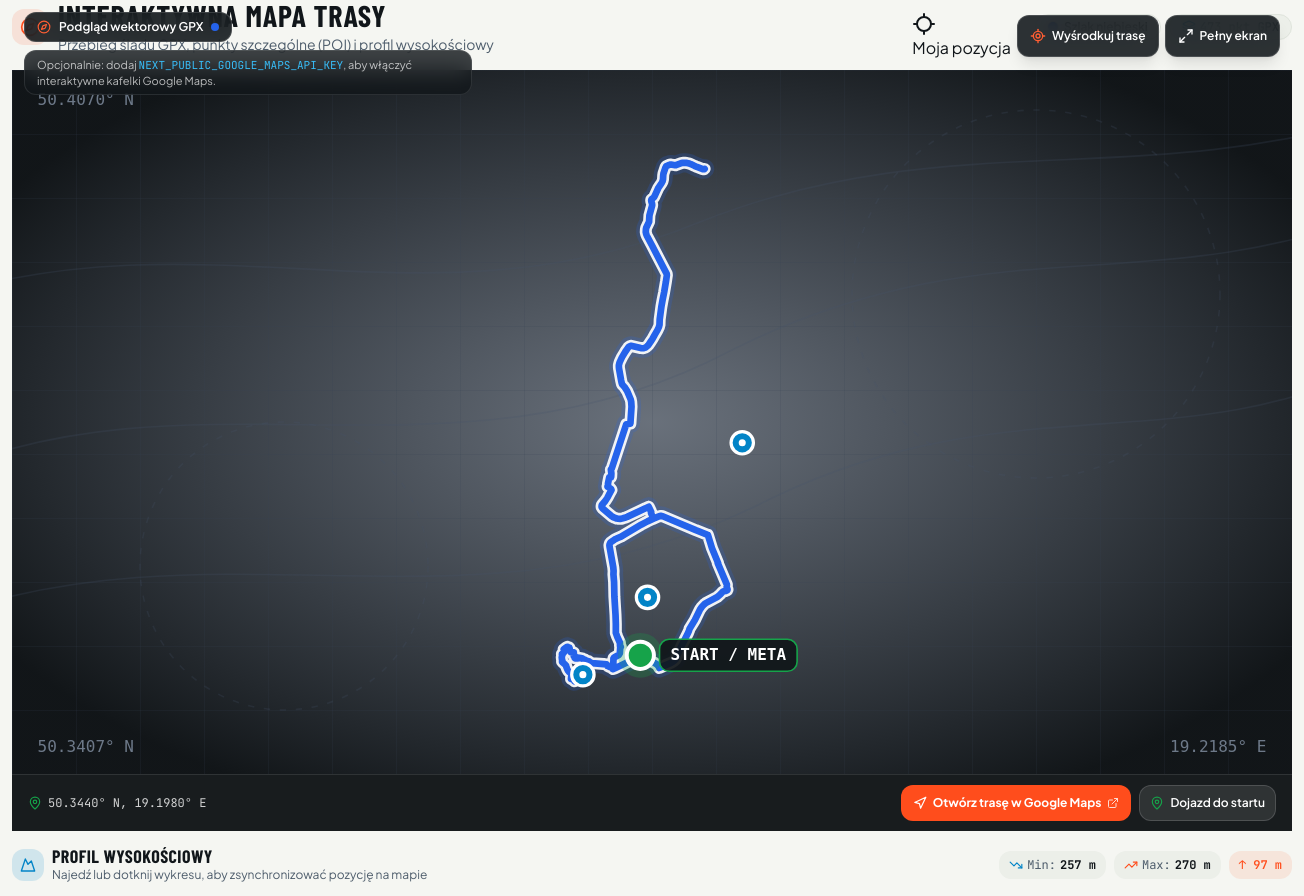
Scenario: Map utils, Google Maps route URLs & TrailGoogleMap (Stage R2) › TrailMapSection displays non-intrusive Polish message on GPS permission denial and handles missing geolocation
Later steps or results of the test are not shown.
Click the button "Moja pozycja": (962, 36) [912,12,1011,60]
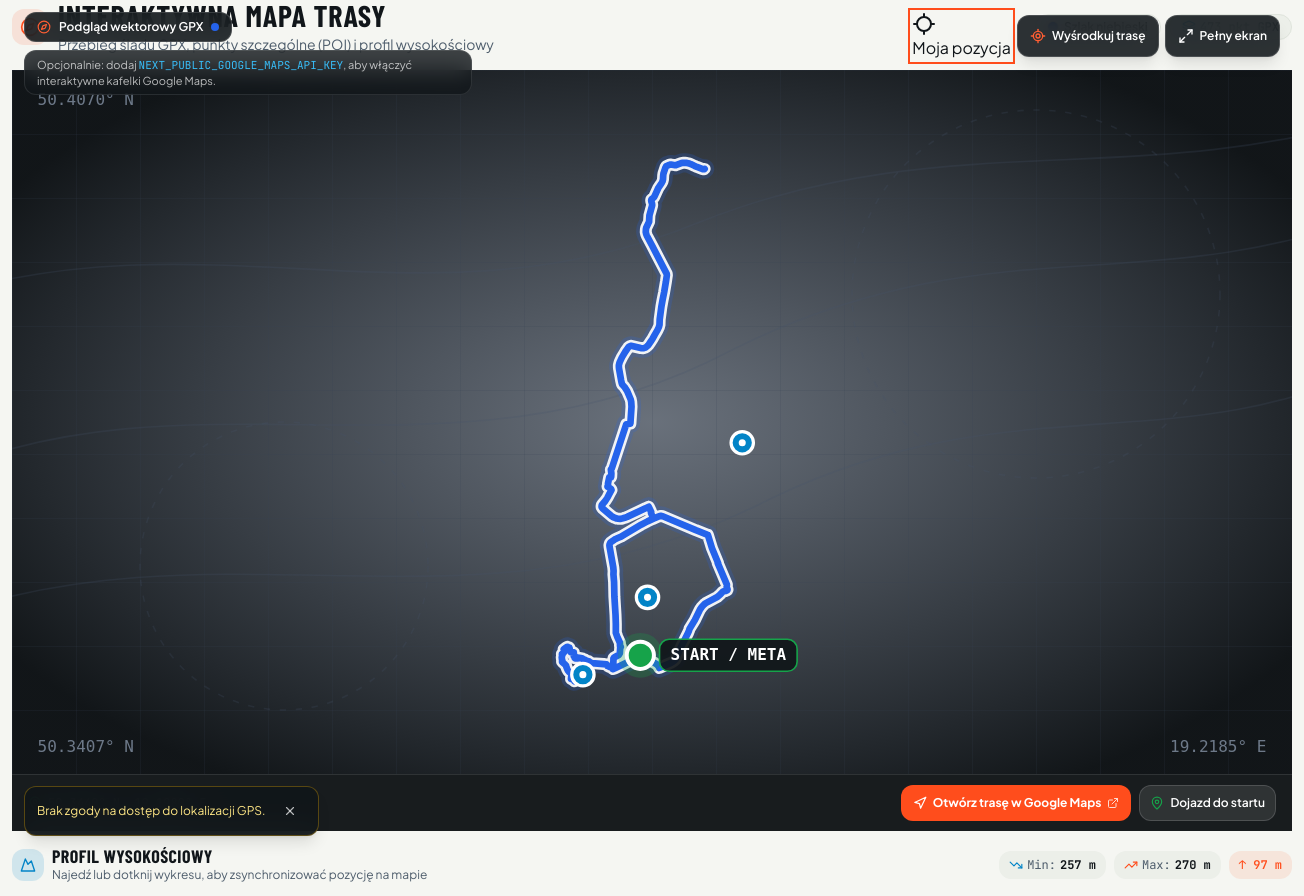
Check: the message with test id "gps-error-banner" shows "Brak zgody na dostęp do lokalizacji GPS", box [37,803,266,818]
Click the button named "Zamknij komunikat GPS": (290, 811) [274,795,306,827]
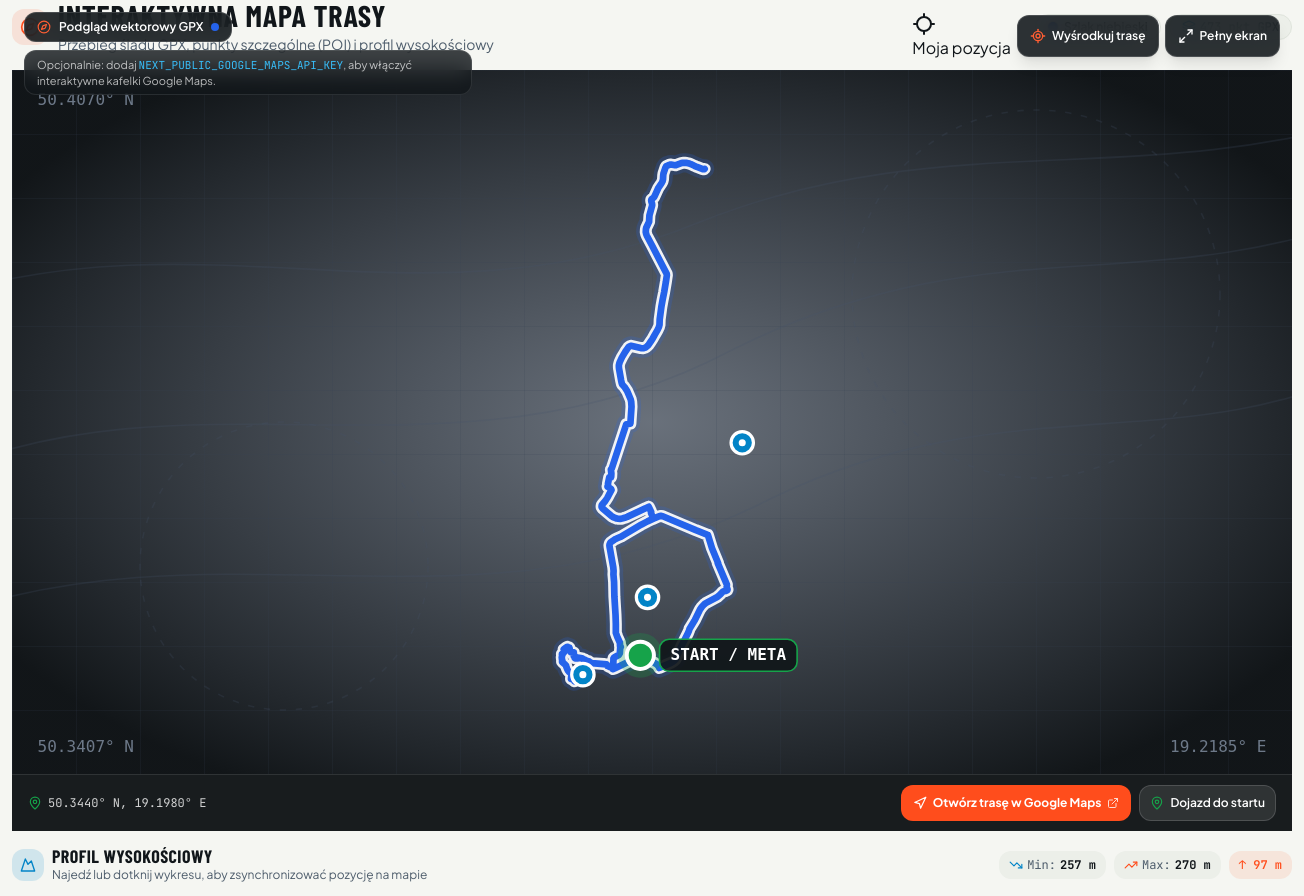
Check: the message with test id "gps-error-banner" is gone
